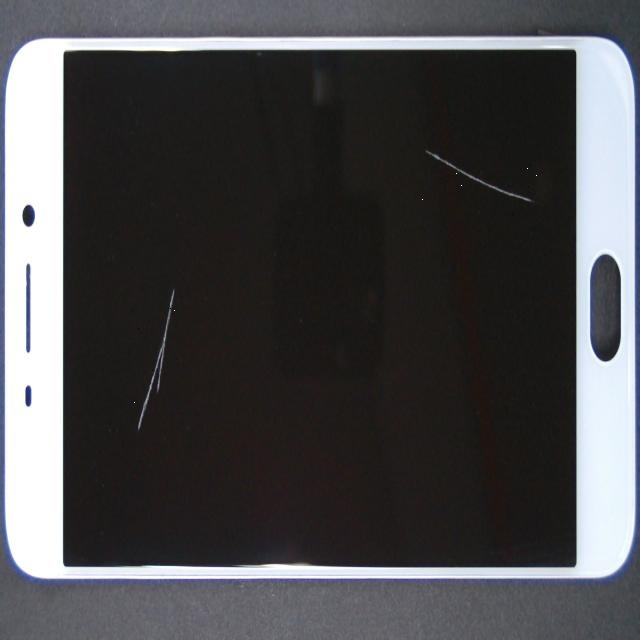scratch: (155, 67, 640, 282), (62, 208, 198, 640)
